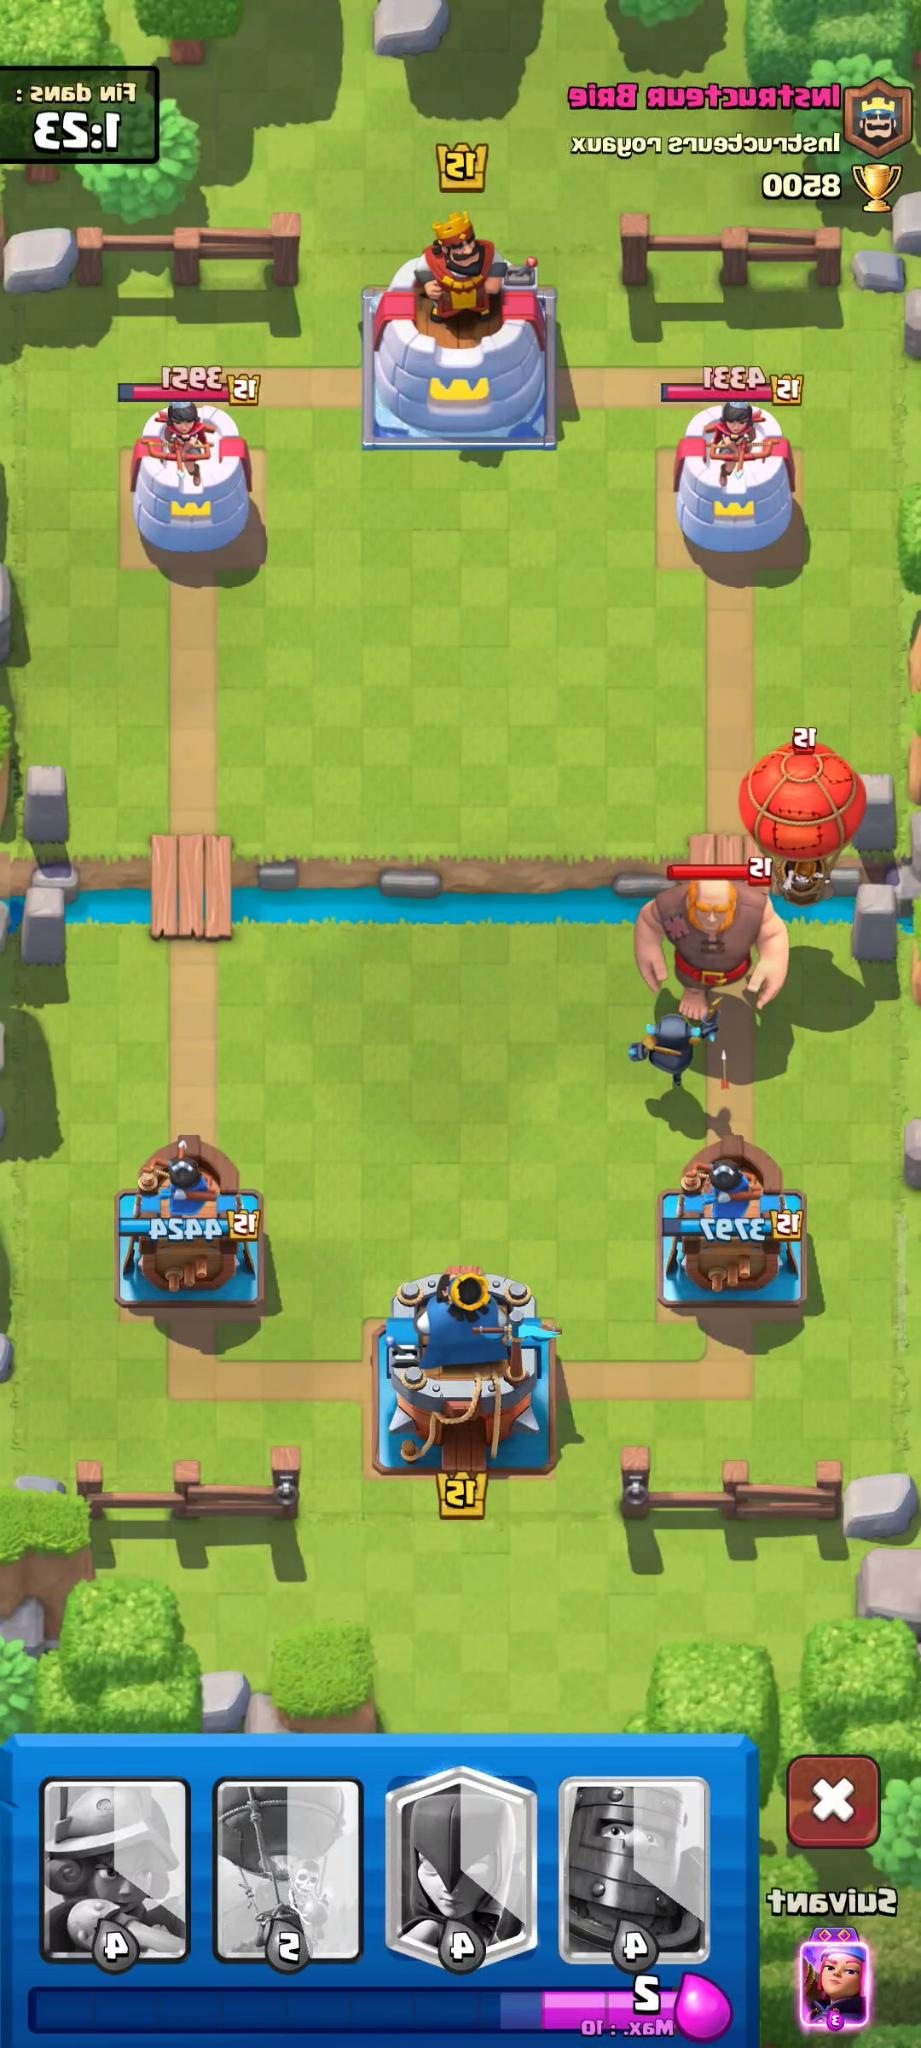geant: (602, 850, 796, 1027)
mini_PEKKA: (607, 1012, 728, 1101)
